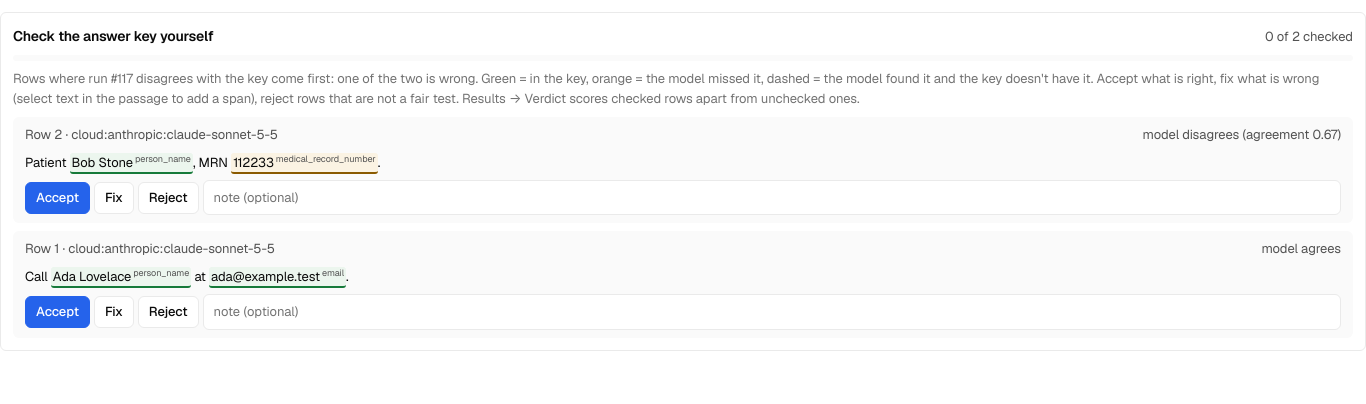
Test: AnswerKeyReviewPanel › accept sends the verdict and moves the row out of the pending list
Expected: the element with test id "akr-row-0" is shown, [13,232,1353,338]
Type "fine" into the field named "Review note" at x=772, y=312, box [202,294,1341,330]
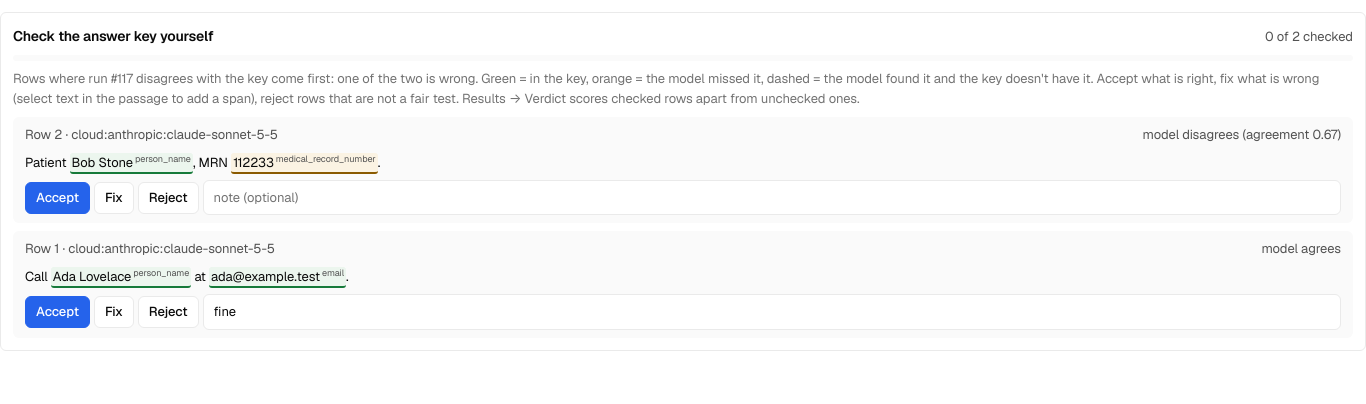
Click the button with test id "akr-accept-0" at x=57, y=312, box [25,296,90,328]
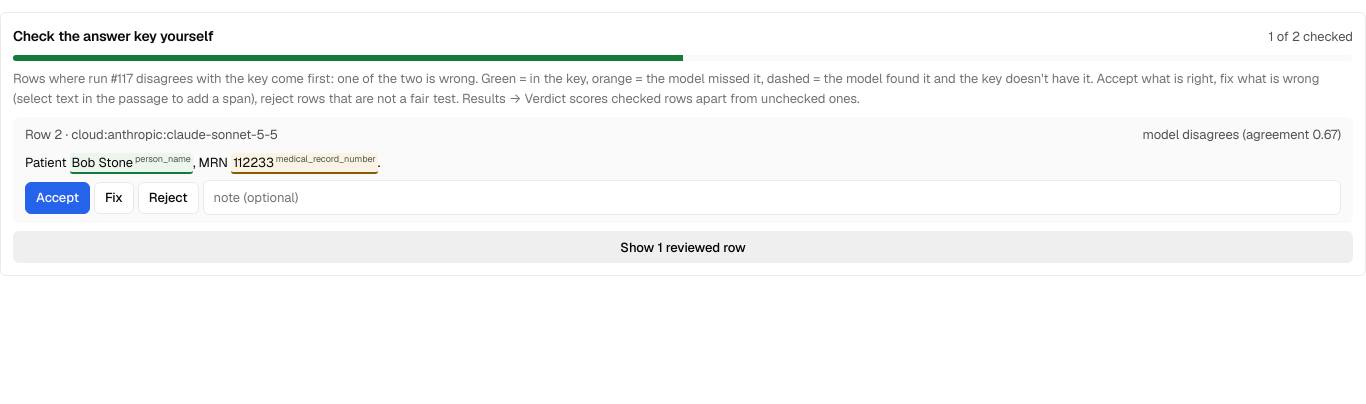
Expected: the text with test id "akr-progress" reads "1 of 2 checked", [1269,28,1353,45]
Expected: the element with test id "akr-row-0" is gone
Click the button with test id "akr-toggle-reviewed" at x=683, y=248, box [13,232,1353,264]
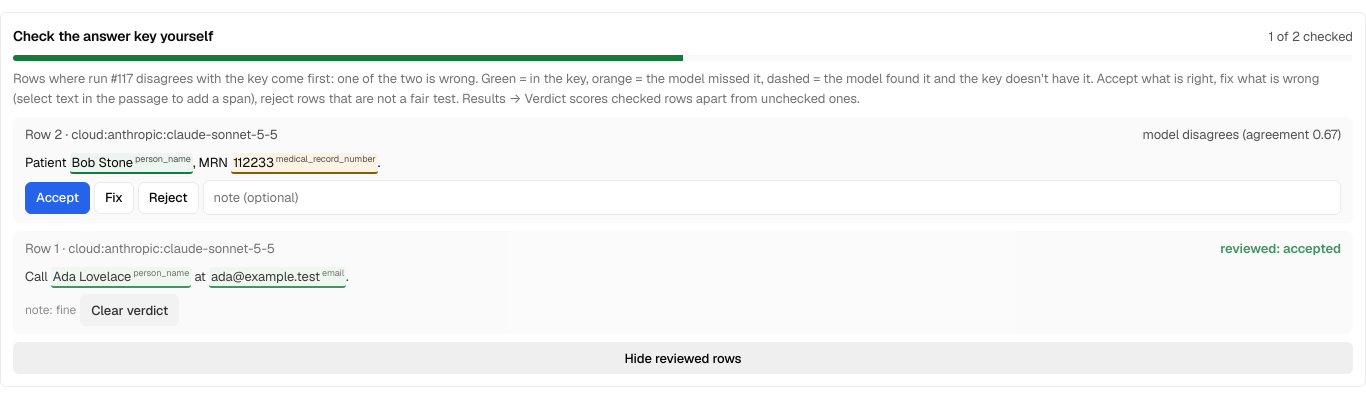
Expected: the text with test id "akr-status-0" reads "reviewed: accepted", [1220,240,1341,258]
Expected: the button with test id "akr-clear-0" is shown, [80,294,179,326]
